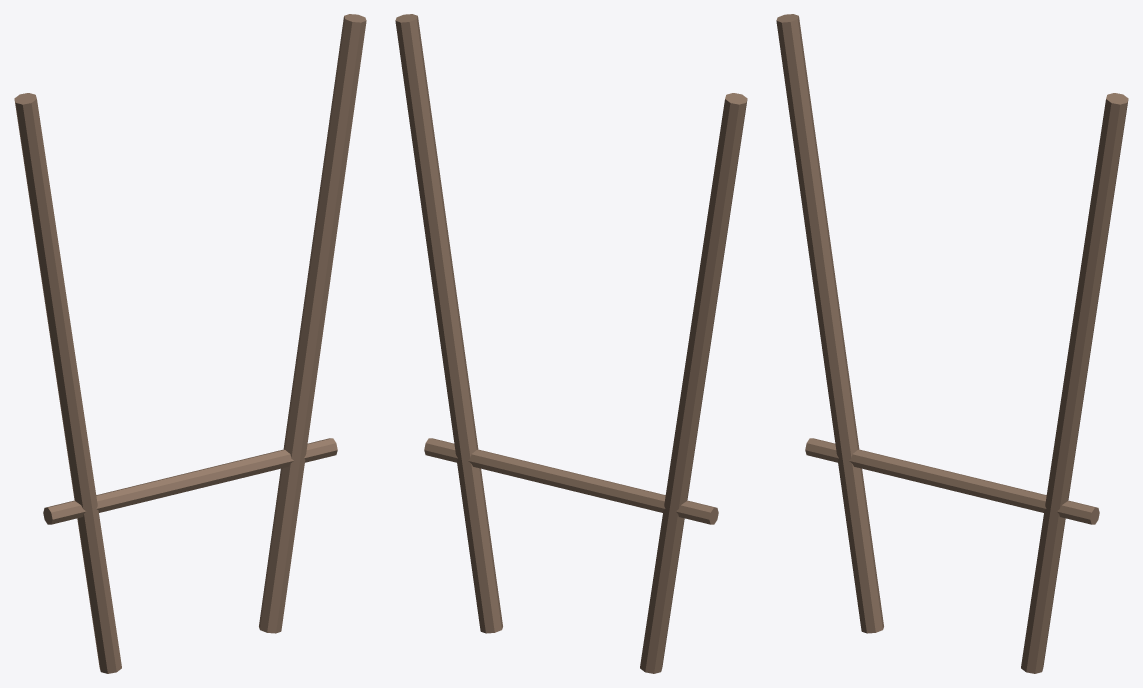
Rendered from easel.glb.
3 renders of one model, left to right at view 1: azimuth 30°, elevation 25°; view 2: azimuth 150°, elevation 25°; view 3: azimuth 330°, elevation 25°, orthographic.
Parts seen in each view (by area): view 1: Leg.001, Leg, Crossbar; view 2: Leg.001, Leg, Crossbar; view 3: Leg, Leg.001, Crossbar.
Boxes of the visible parts, x1,y1,x2,y2 form: Leg.001: (259, 14, 366, 633); Leg: (14, 93, 121, 673); Crossbar: (43, 438, 337, 524); Leg.001: (395, 14, 502, 633); Leg: (640, 93, 747, 673); Crossbar: (424, 438, 718, 524); Leg: (776, 14, 883, 633); Leg.001: (1021, 93, 1128, 673); Crossbar: (805, 438, 1099, 524).
Bounding box in the file's own units: 0.8587 × 1.39 × 0.05.
